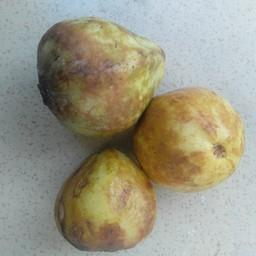Bad_guava: (25, 23, 161, 140), (46, 142, 163, 248), (143, 87, 241, 193)
